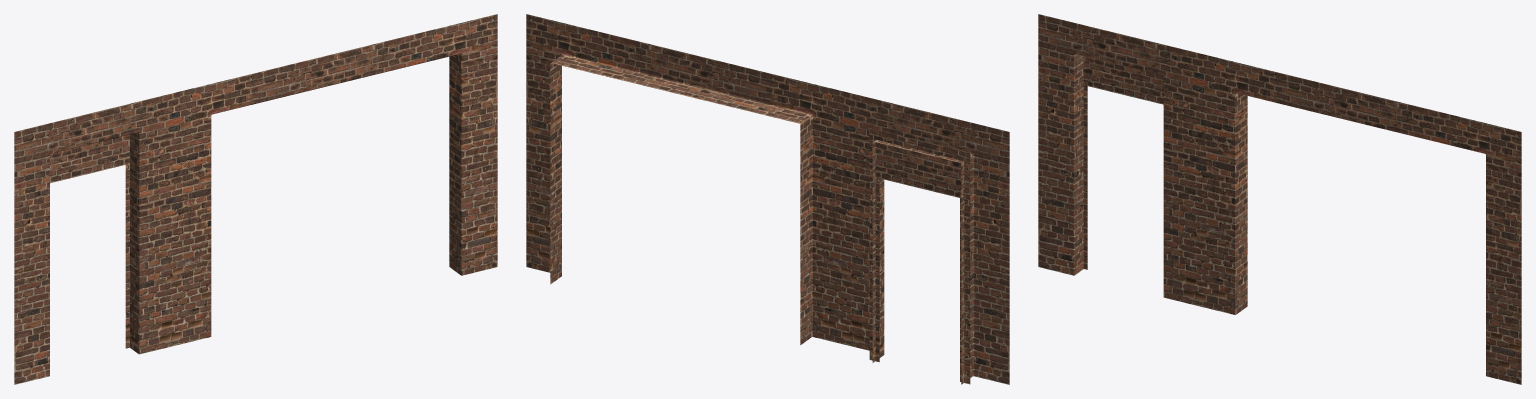
File: factory-door.glb
3 renders of one model, left to right at view 1: azimuth 30°, elevation 25°; view 2: azimuth 150°, elevation 25°; view 3: azimuth 330°, elevation 25°, orthographic.
Parts seen in each view (by area): view 1: wall_door_garage_door_01; view 2: wall_door_garage_door_01; view 3: wall_door_garage_door_01.
Boxes of the visible parts, left/top/right/bottom form: wall_door_garage_door_01: left=14, top=14, right=497, bottom=384; wall_door_garage_door_01: left=526, top=14, right=1009, bottom=384; wall_door_garage_door_01: left=1038, top=14, right=1521, bottom=384.
Size of the model in its own units: 6 by 3 by 0.26.
1 material, 1 textured.
